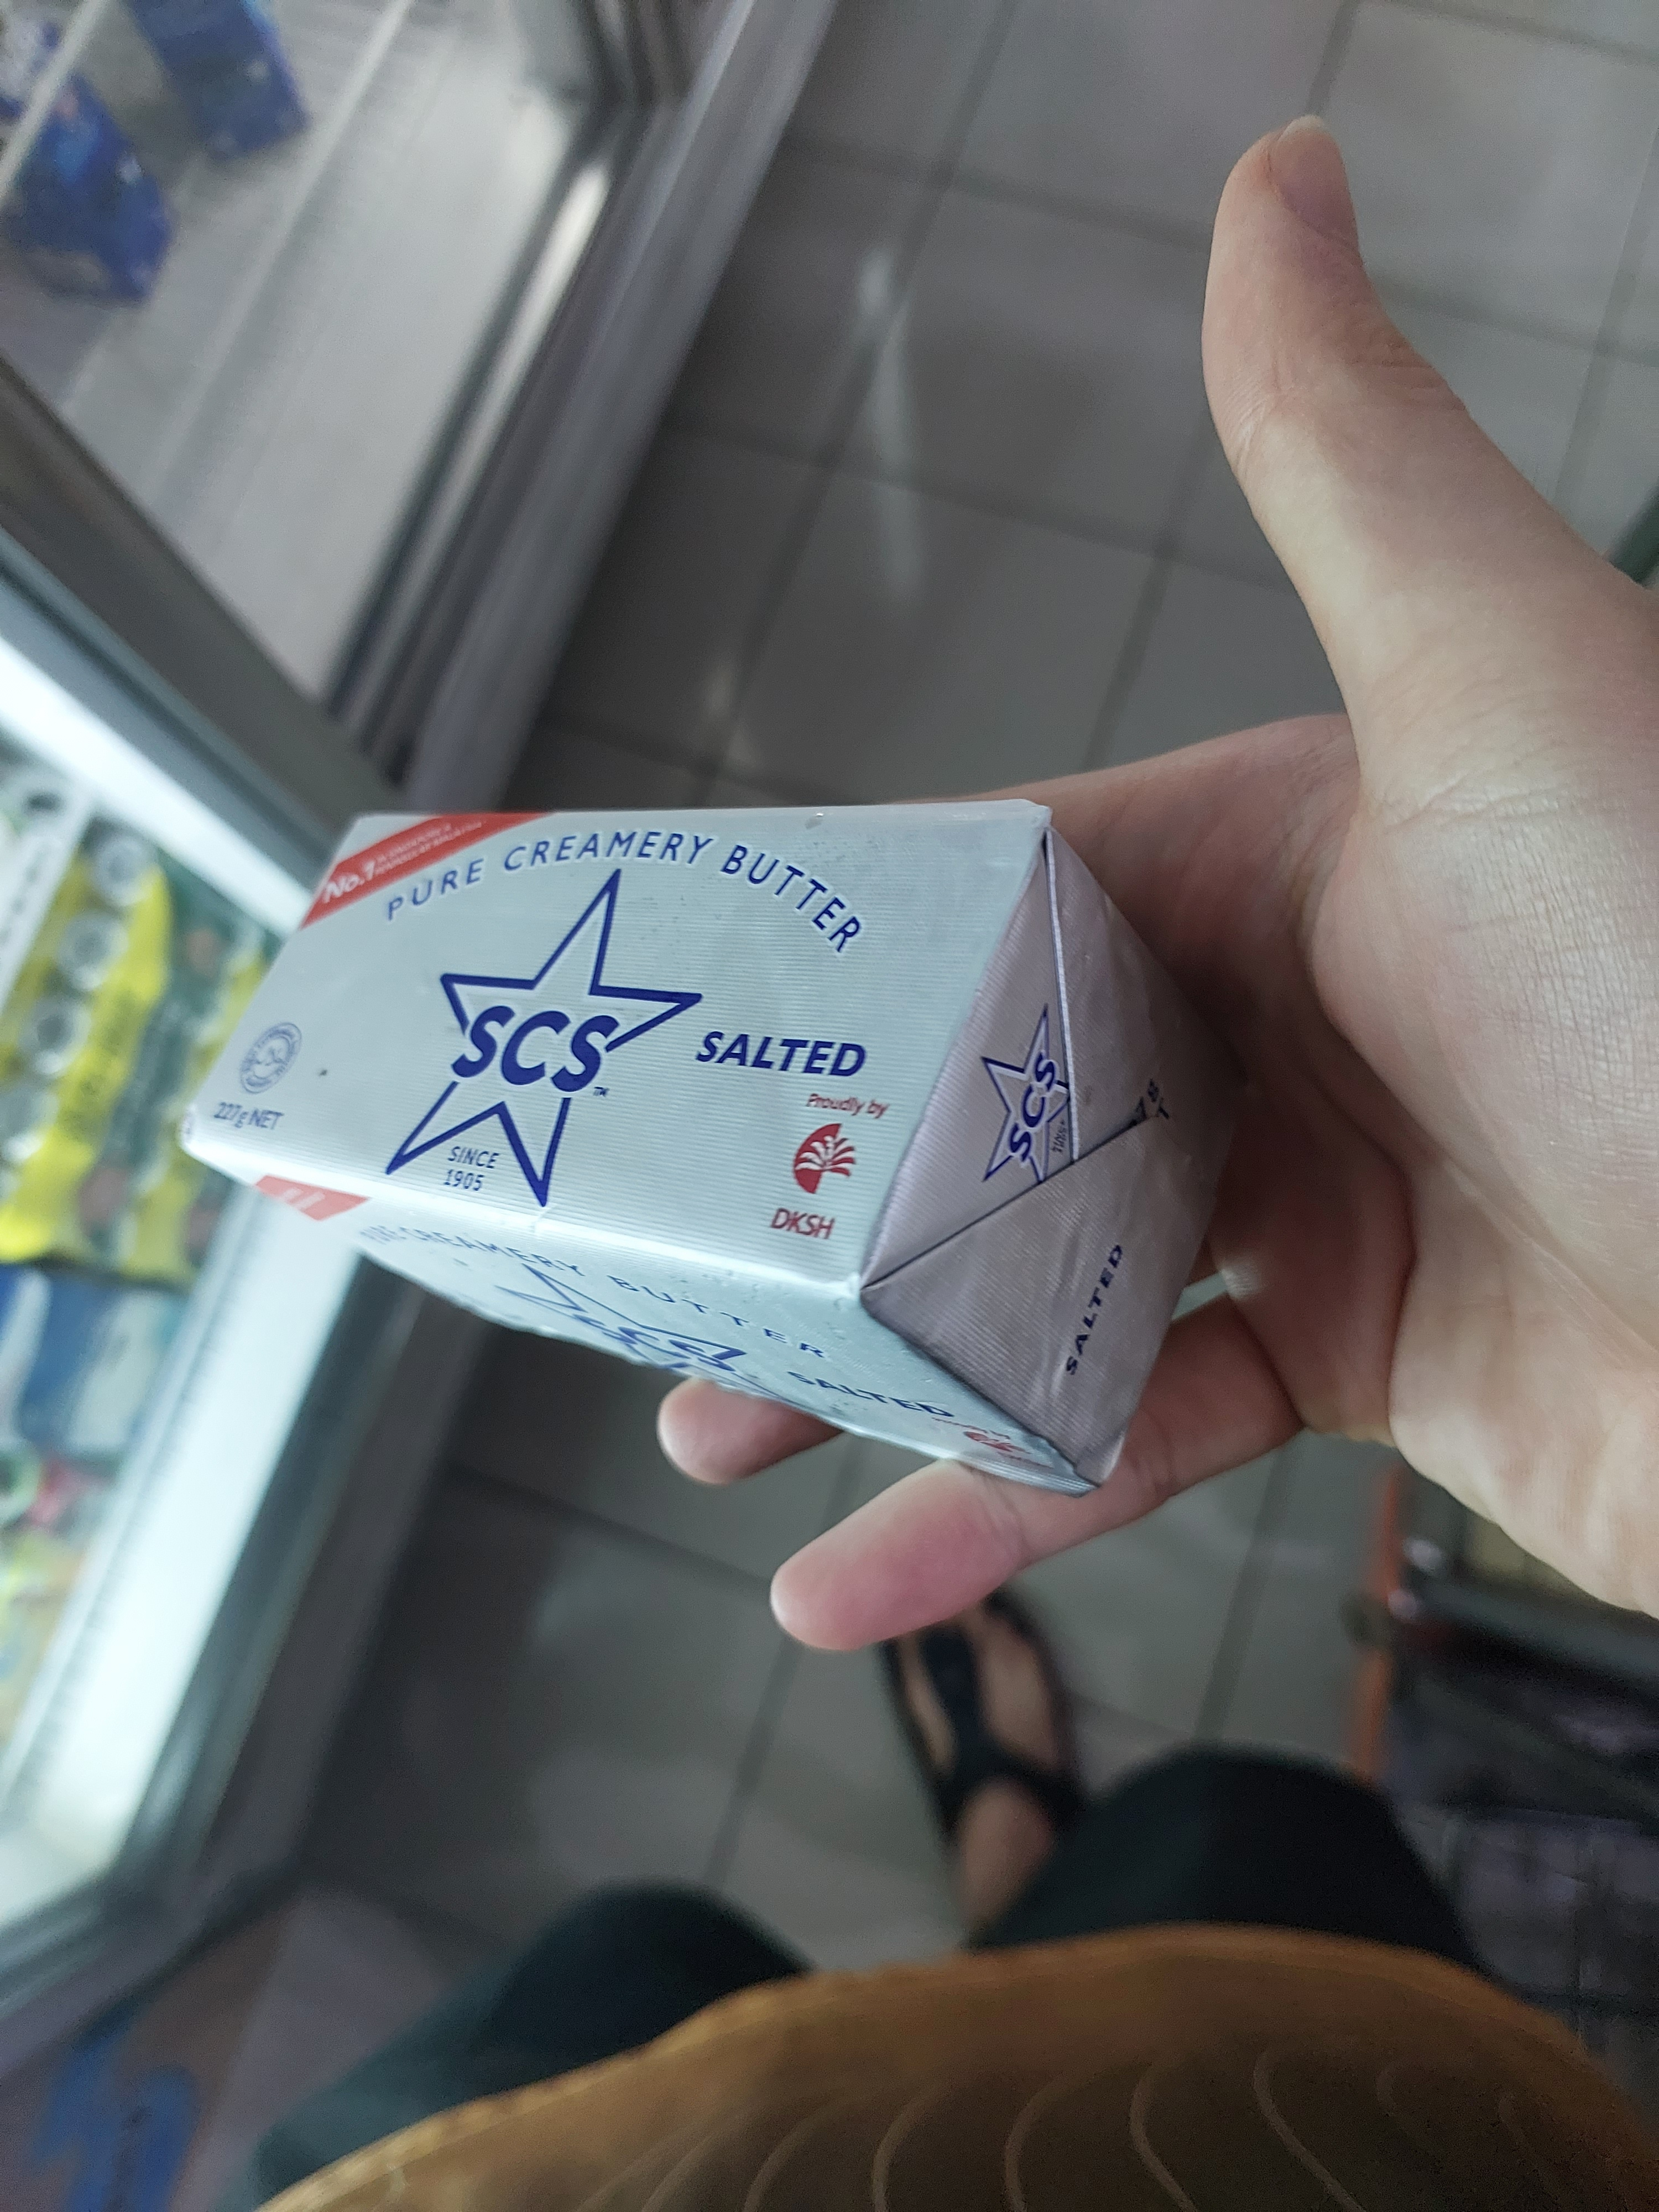butter: (178, 803, 1230, 1503)
